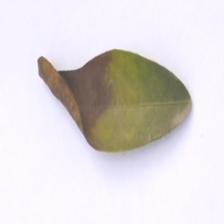black spot: (34, 38, 118, 136)
